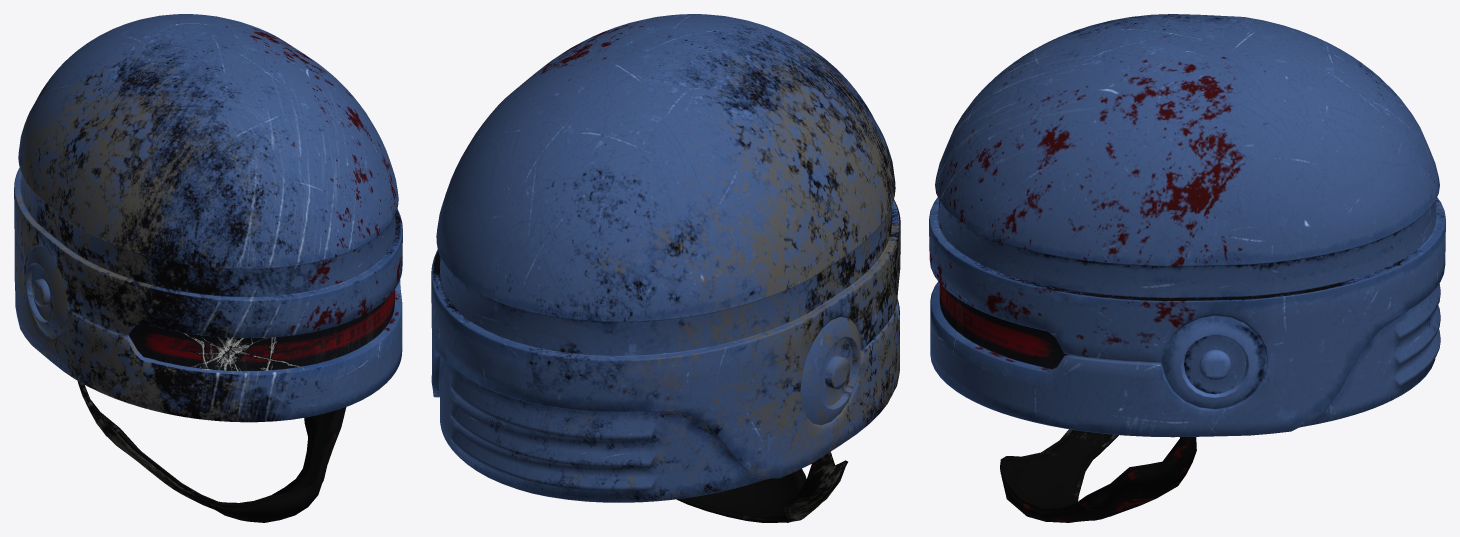
Rendered from robocop_helmet.glb.
The picture shows the model from 3 angles, left to right: view 1: azimuth 30°, elevation 25°; view 2: azimuth 150°, elevation 25°; view 3: azimuth 270°, elevation 25°; orthographic projection. The views are drawn at different scales.
Visible parts, largest first — view 1: g; view 2: g; view 3: g.
Part boxes in pixels (bbox=[...]): g: bbox=[14, 14, 402, 522]; g: bbox=[431, 14, 900, 522]; g: bbox=[929, 14, 1445, 522].
Size of the model in its own units: 0.1851 by 0.24 by 0.2348.
Materials: 1 (1 with a texture image).
